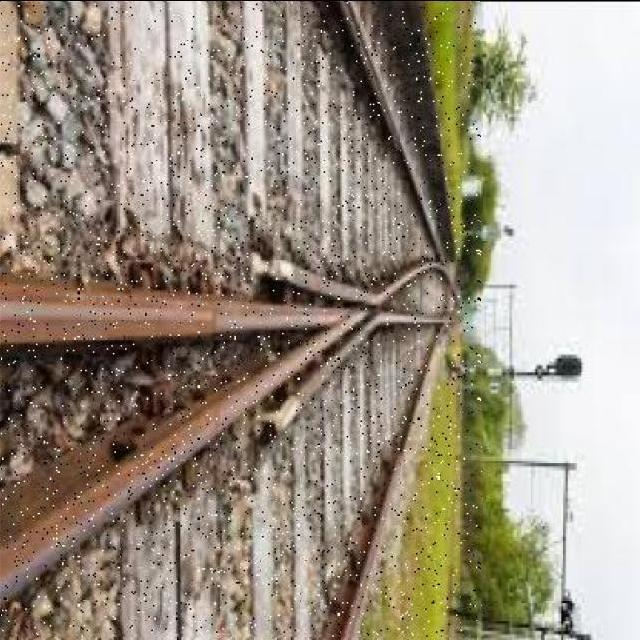rail: (2, 3, 481, 635)
